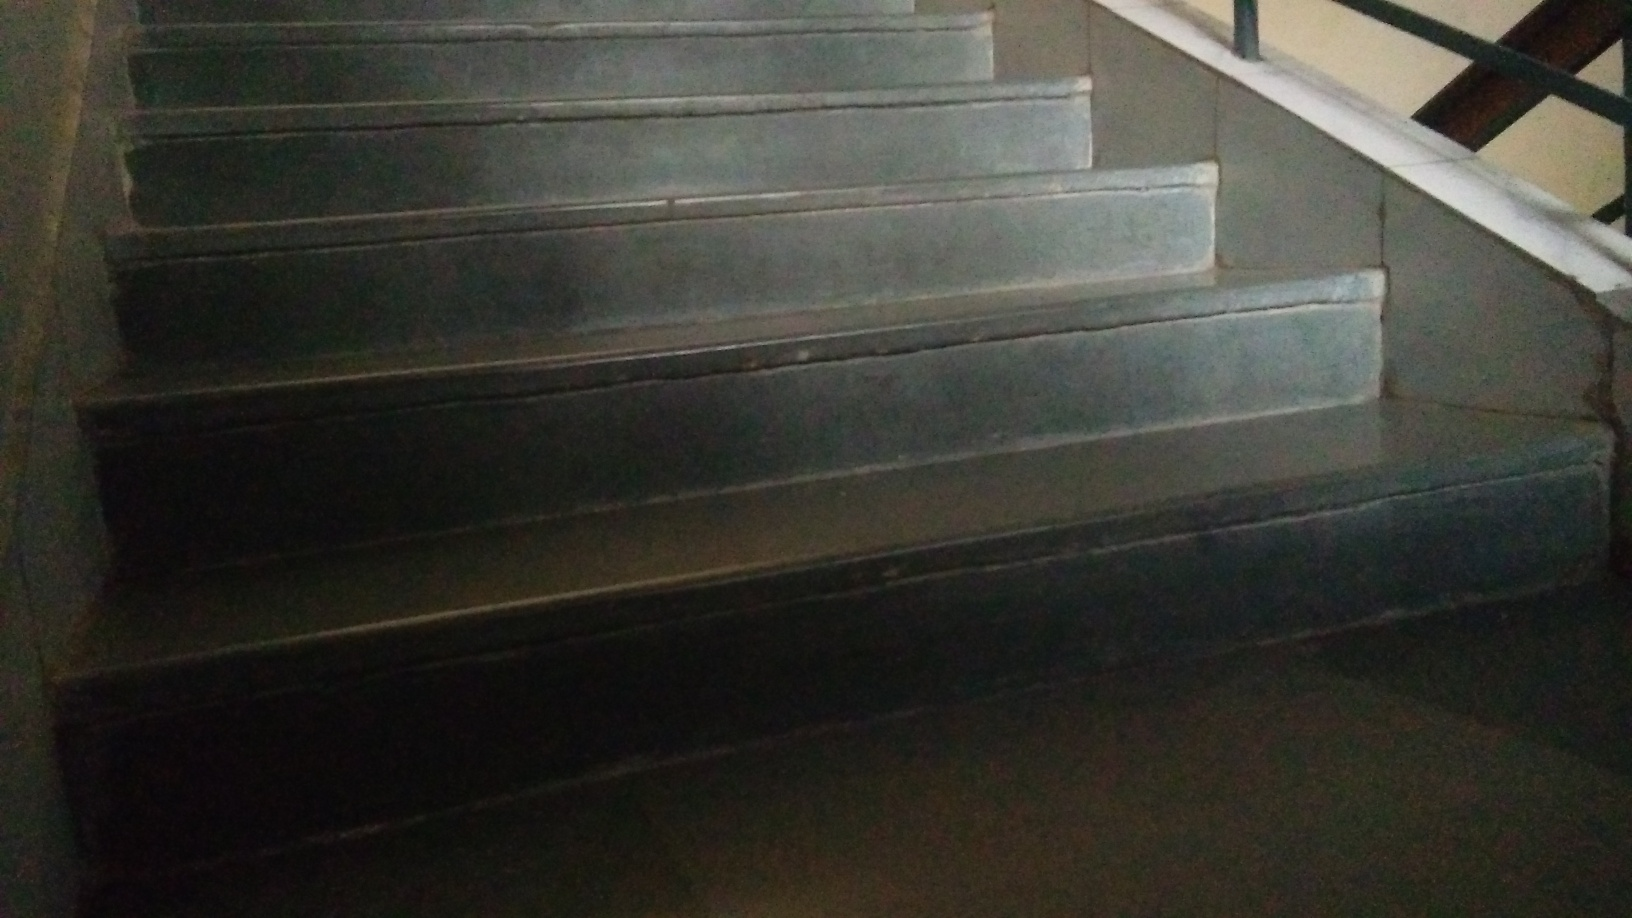stairs_up: (44, 9, 1616, 778)
